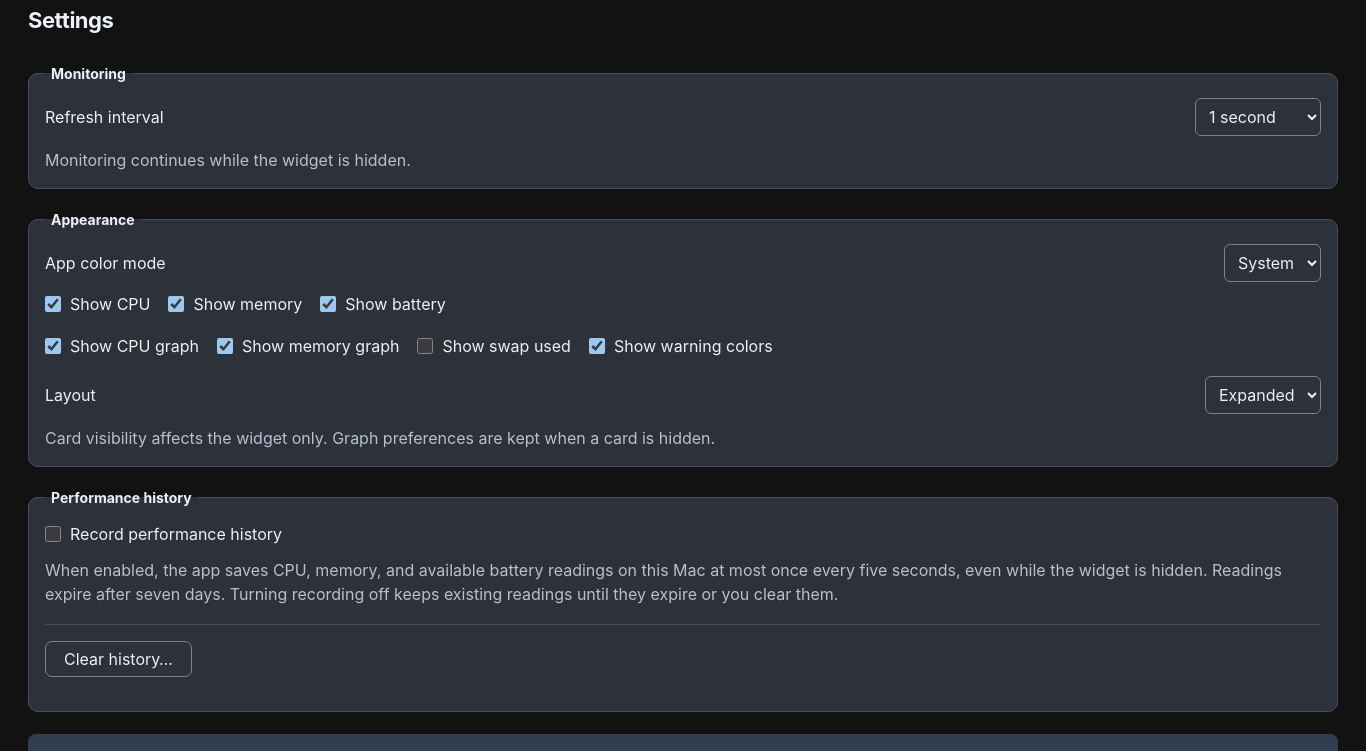
it: Settings window › hiding the CPU card disables and unchecks its graph control
Expected: the dropdown labelled "Refresh interval" is shown, 1195,98 -> 1321,136
Expected: the checkbox labelled "Show CPU graph" is checked, 45,338 -> 61,354
Click the checkbox labelled "Show CPU" at (53,304), box 45,296 -> 61,312
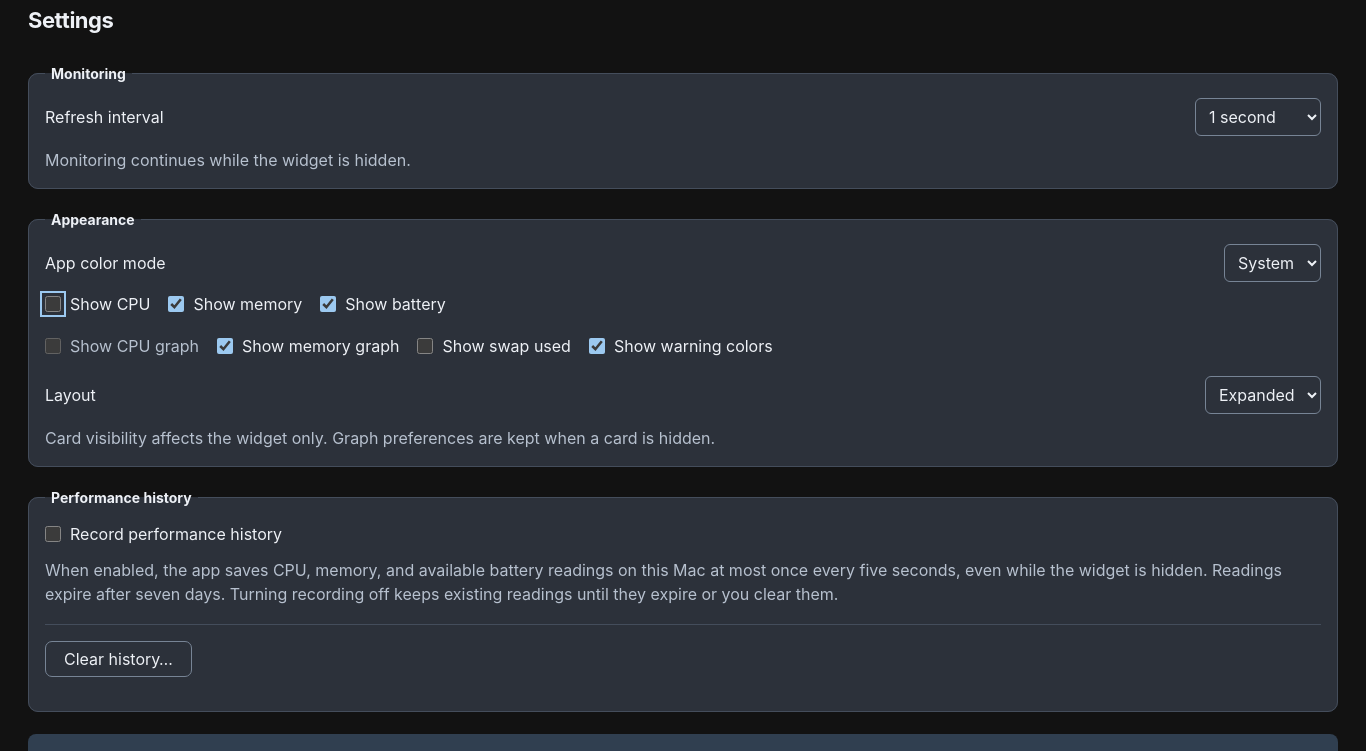
Expected: the checkbox labelled "Show memory graph" is enabled, 217,338 -> 233,354
Expected: the checkbox labelled "Show CPU graph" is disabled
Expected: the checkbox labelled "Show CPU graph" is not checked
Click the checkbox labelled "Show CPU graph" at (53,346), box 45,338 -> 61,354
(page scrolled)
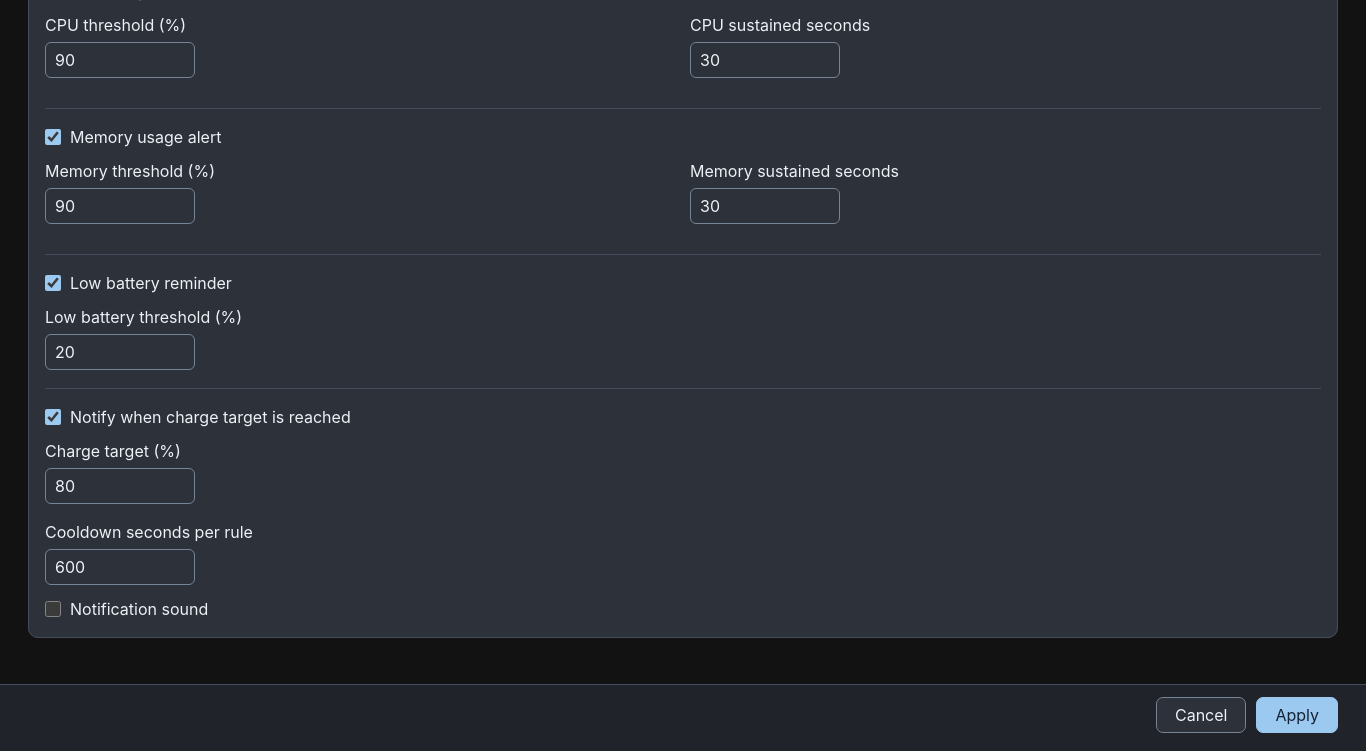
Click the button "Apply" at (1297,715), box 1256,697 -> 1338,733
(page scrolled)
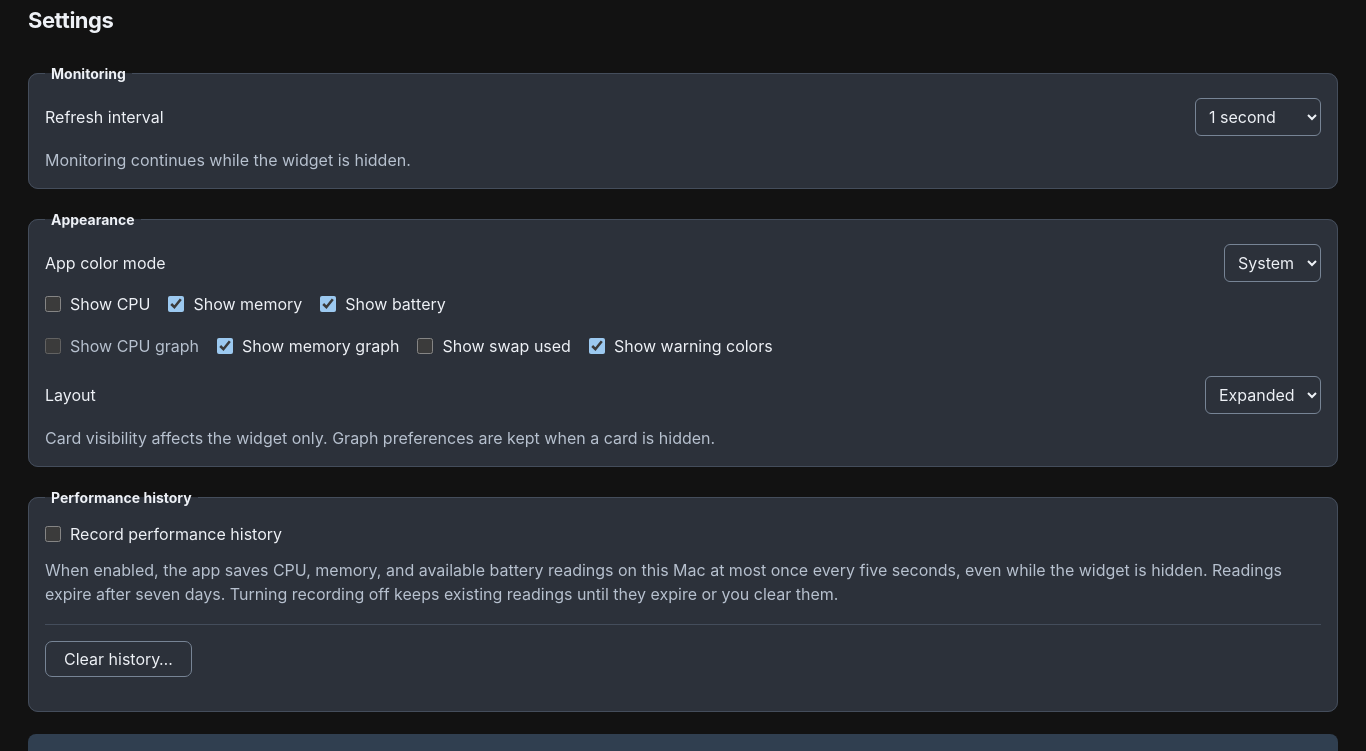
Expected: the checkbox labelled "Show CPU graph" is not checked, 45,338 -> 61,354
Expected: the checkbox labelled "Show CPU graph" is disabled, 45,338 -> 61,354
Click the checkbox labelled "Show CPU" at (53,304), box 45,296 -> 61,312
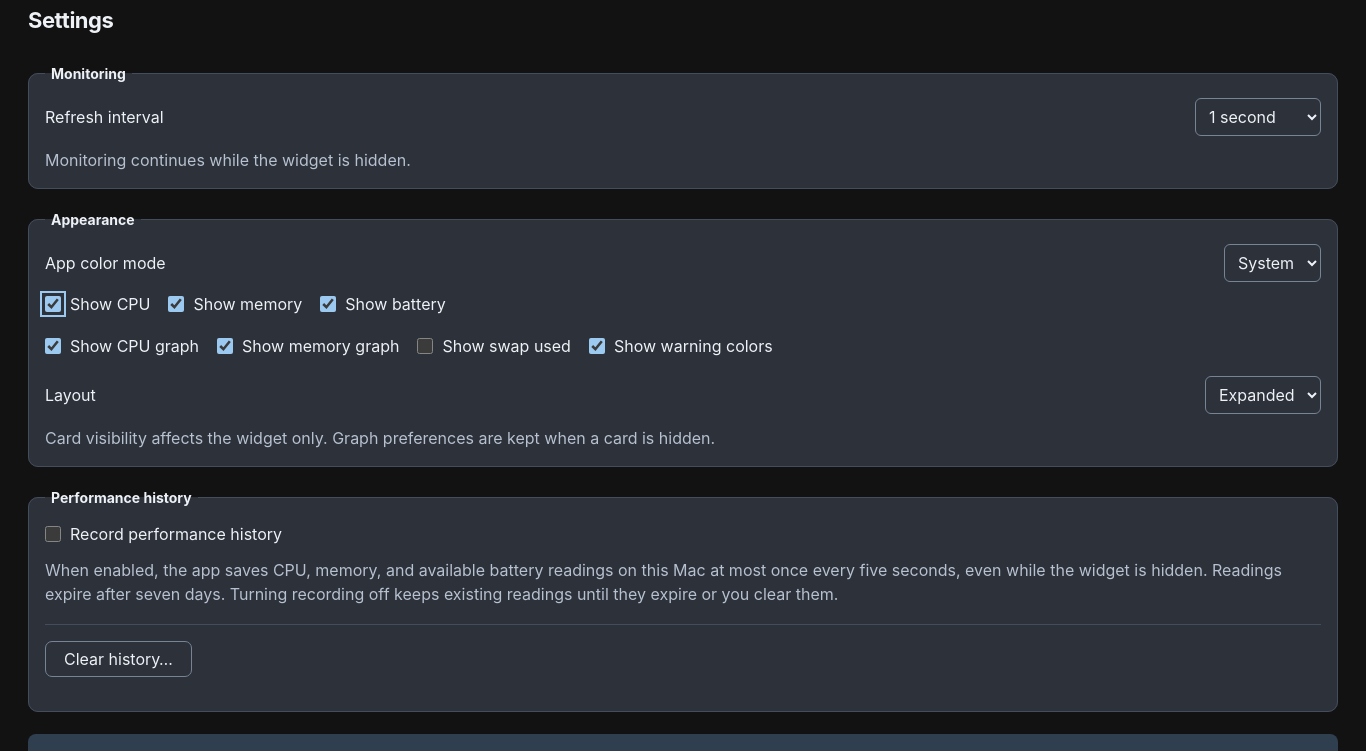
Expected: the checkbox labelled "Show CPU graph" is checked, 45,338 -> 61,354
Expected: the checkbox labelled "Show CPU graph" is enabled, 45,338 -> 61,354
